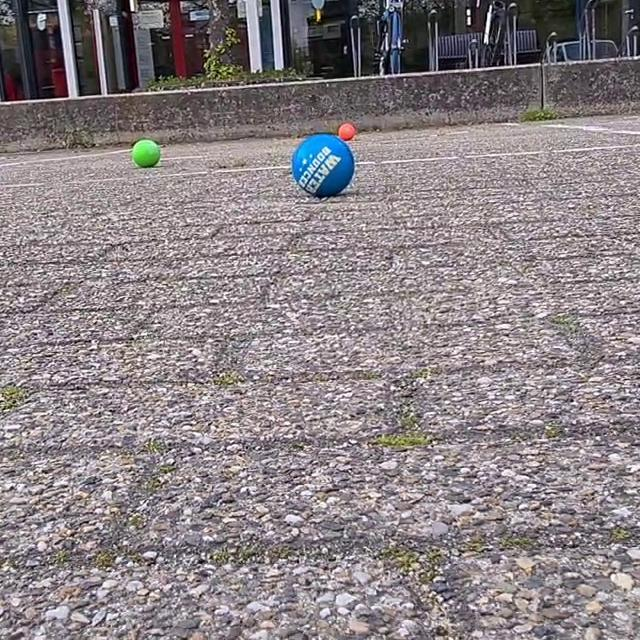ball: (130, 139, 162, 169), (338, 119, 360, 144)
